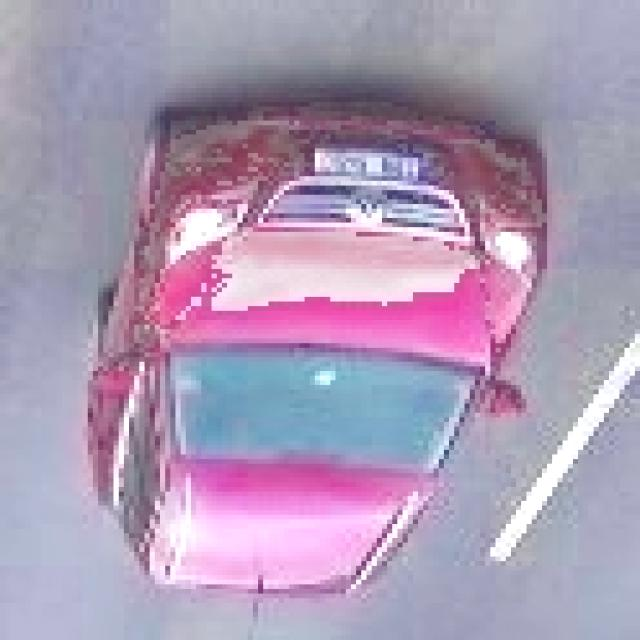maroon: (93, 104, 552, 587)
